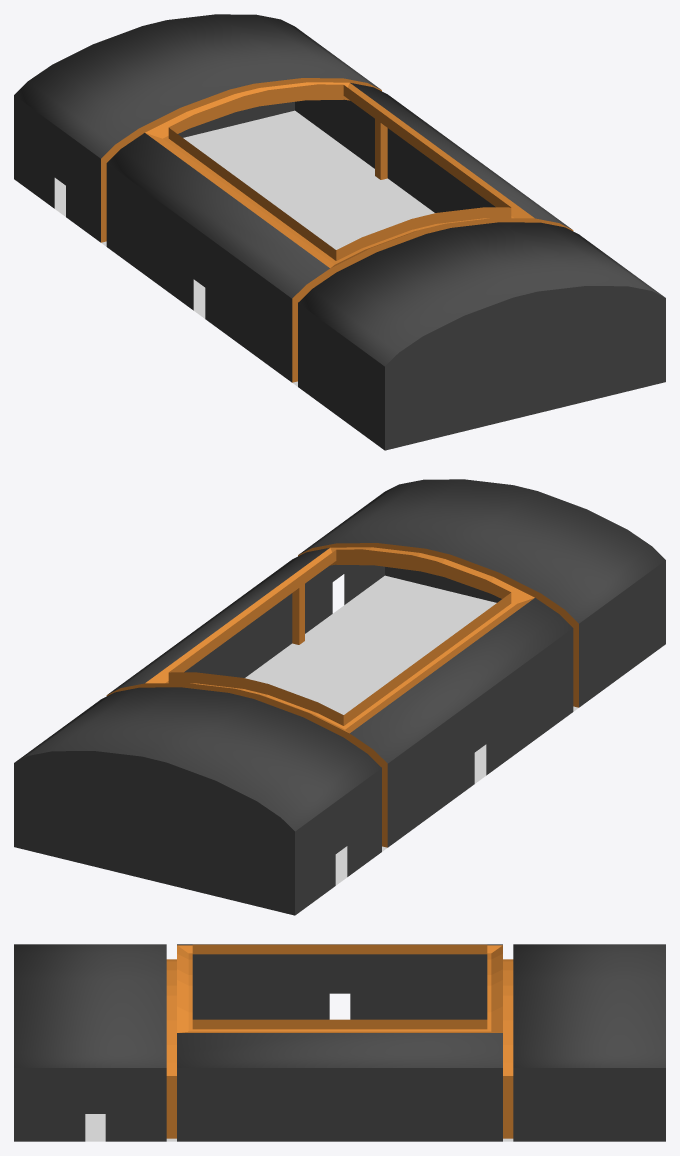
File: Hall.fbx
The picture shows the model from 3 angles, top to bottom: view 1: azimuth 30°, elevation 25°; view 2: azimuth 150°, elevation 25°; view 3: azimuth 270°, elevation 25°; orthographic projection. The views are drawn at different scales.
Parts seen in each view (by area): view 1: Cube; view 2: Cube; view 3: Cube.
Boxes of the visible parts, x1,y1,x2,y2 form: Cube: [14, 14, 665, 450]; Cube: [14, 479, 665, 915]; Cube: [14, 944, 665, 1141].
Size of the model in its own units: 2800 by 1201 by 6400.
